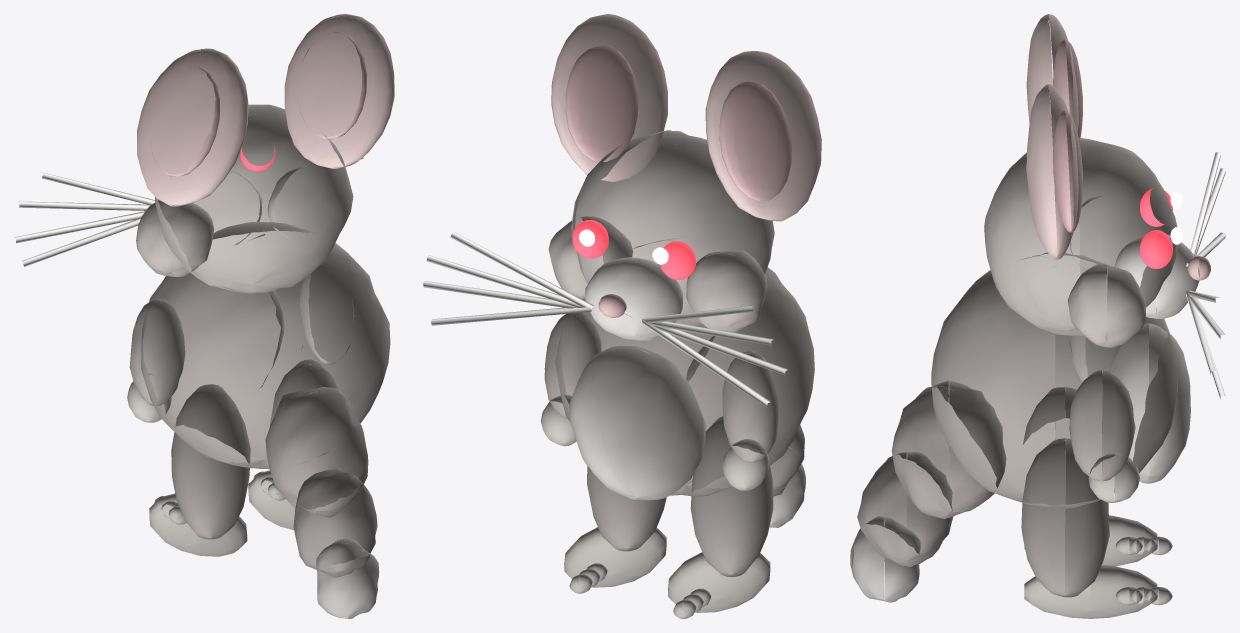
File: player_chinchilla_beige.glb
The picture shows the model from 3 angles, left to right: view 1: azimuth 30°, elevation 25°; view 2: azimuth 150°, elevation 25°; view 3: azimuth 270°, elevation 25°; orthographic projection. The views are drawn at different scales.
Parts seen in each view (by area): view 1: chinchilla; view 2: chinchilla; view 3: chinchilla.
Part boxes in pixels (<box>): chinchilla: <box>14,14,394,618</box>; chinchilla: <box>423,14,821,618</box>; chinchilla: <box>850,14,1225,618</box>.
Bounding box in the file's own units: 0.8416 × 1.22 × 0.76.
